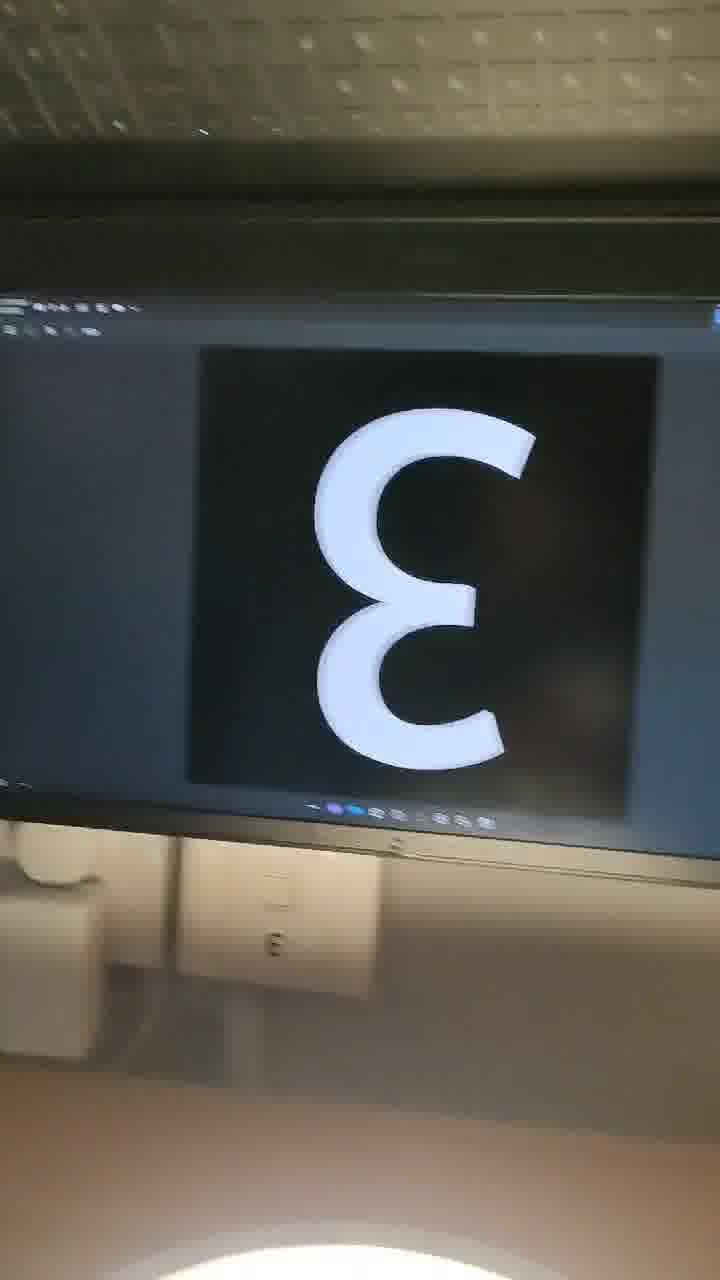three: (263, 384, 647, 907)
